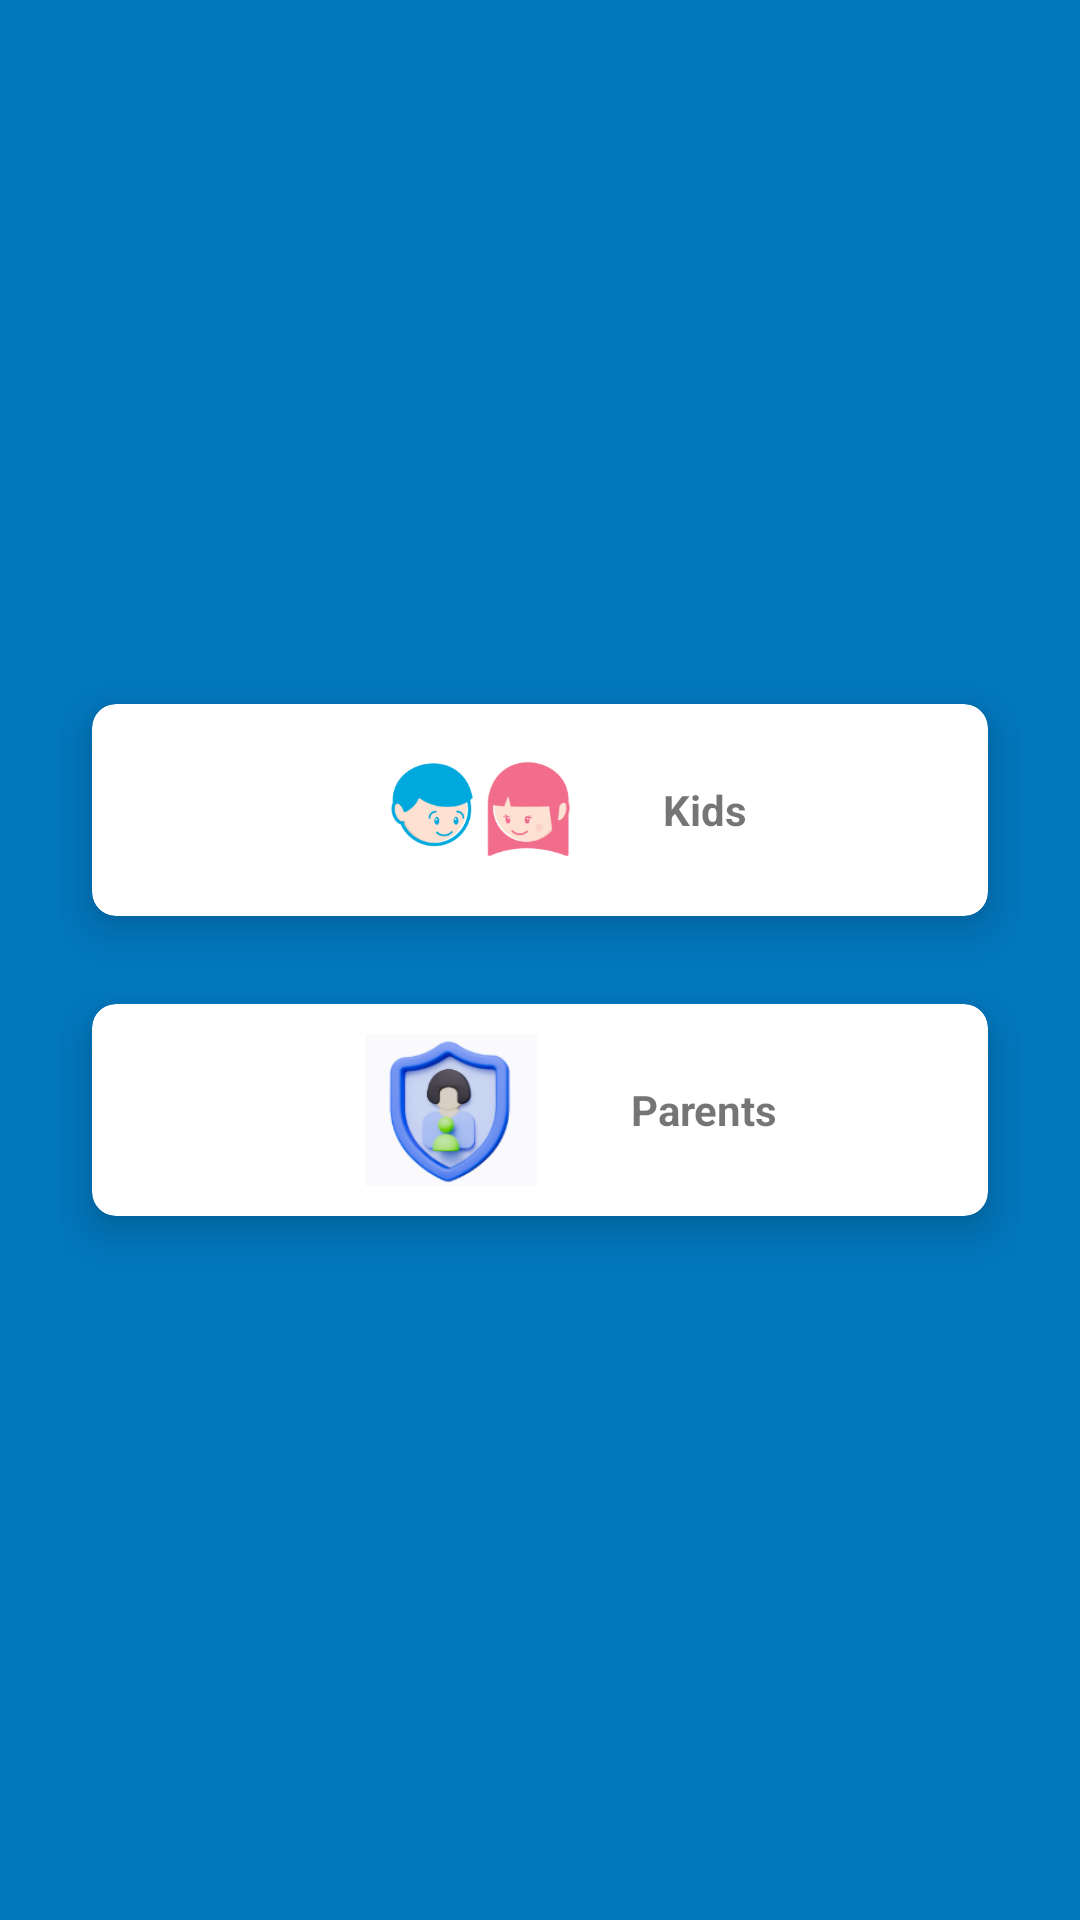

Point at icon controls on the screen. Image size 1080x1920, points as [x,y].
childicon: [480,809]
